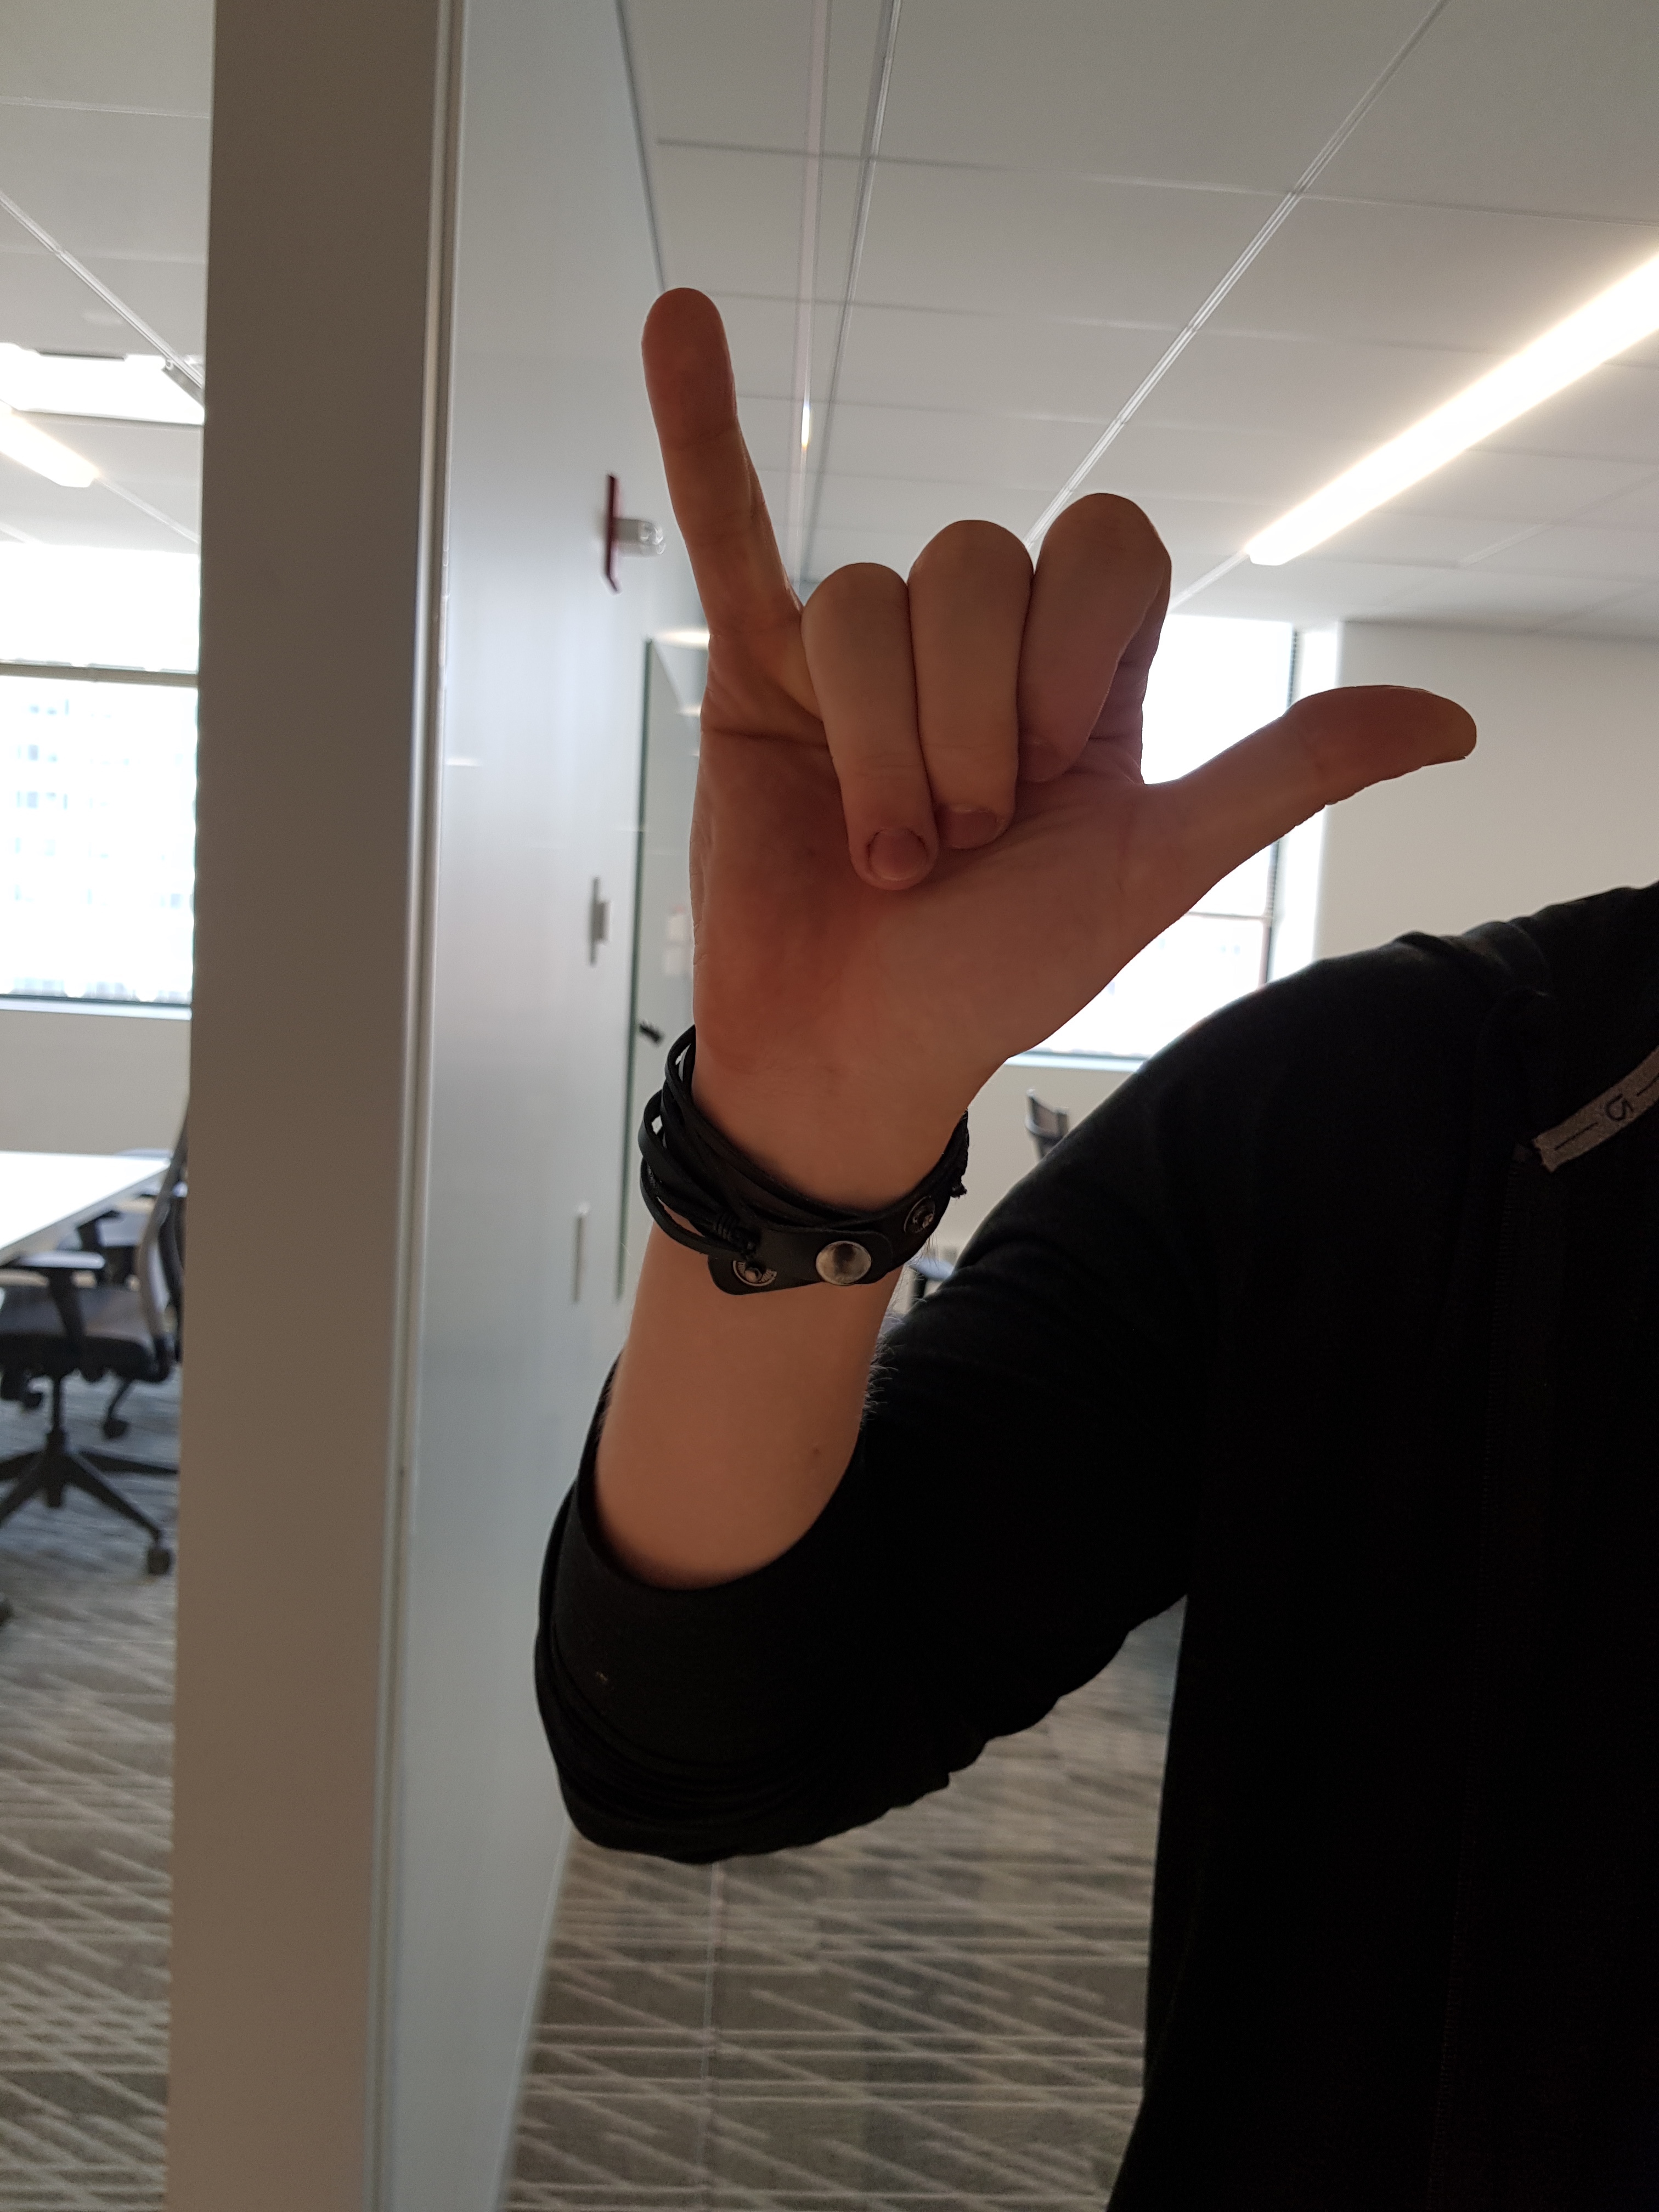y: (606, 266, 1500, 1104)
